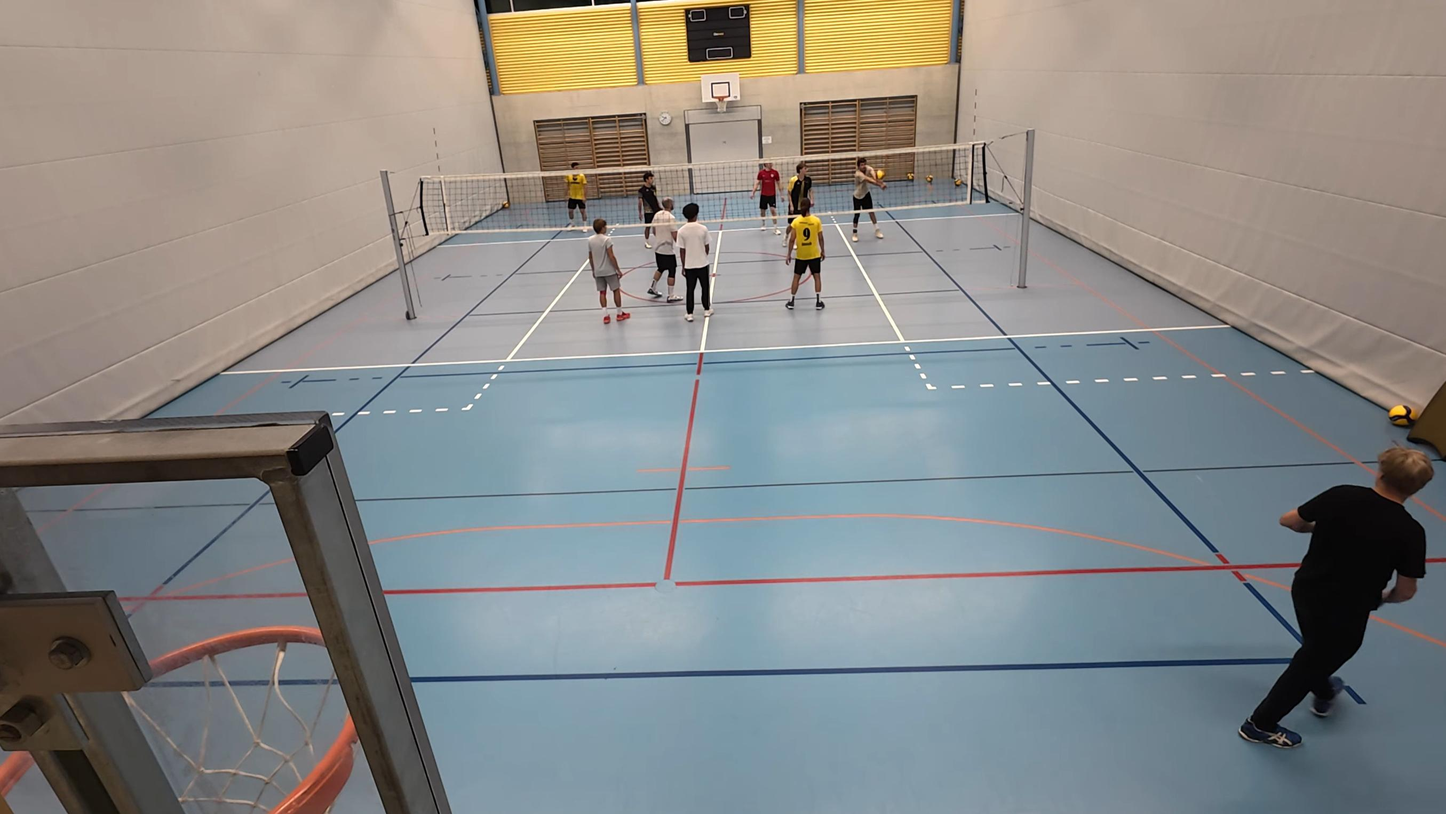Player: (676, 198, 715, 324), (783, 198, 827, 309), (587, 216, 630, 324), (650, 190, 685, 304), (786, 159, 815, 244), (633, 169, 664, 247), (753, 157, 782, 237), (564, 159, 589, 233)
Receive: (849, 150, 887, 239)
ball: (874, 168, 889, 185)
